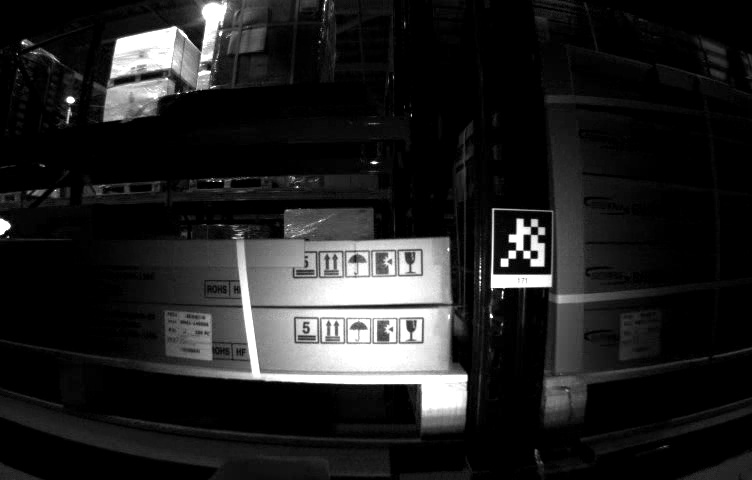True Barcode: (166, 311, 215, 361), (618, 309, 663, 358)
